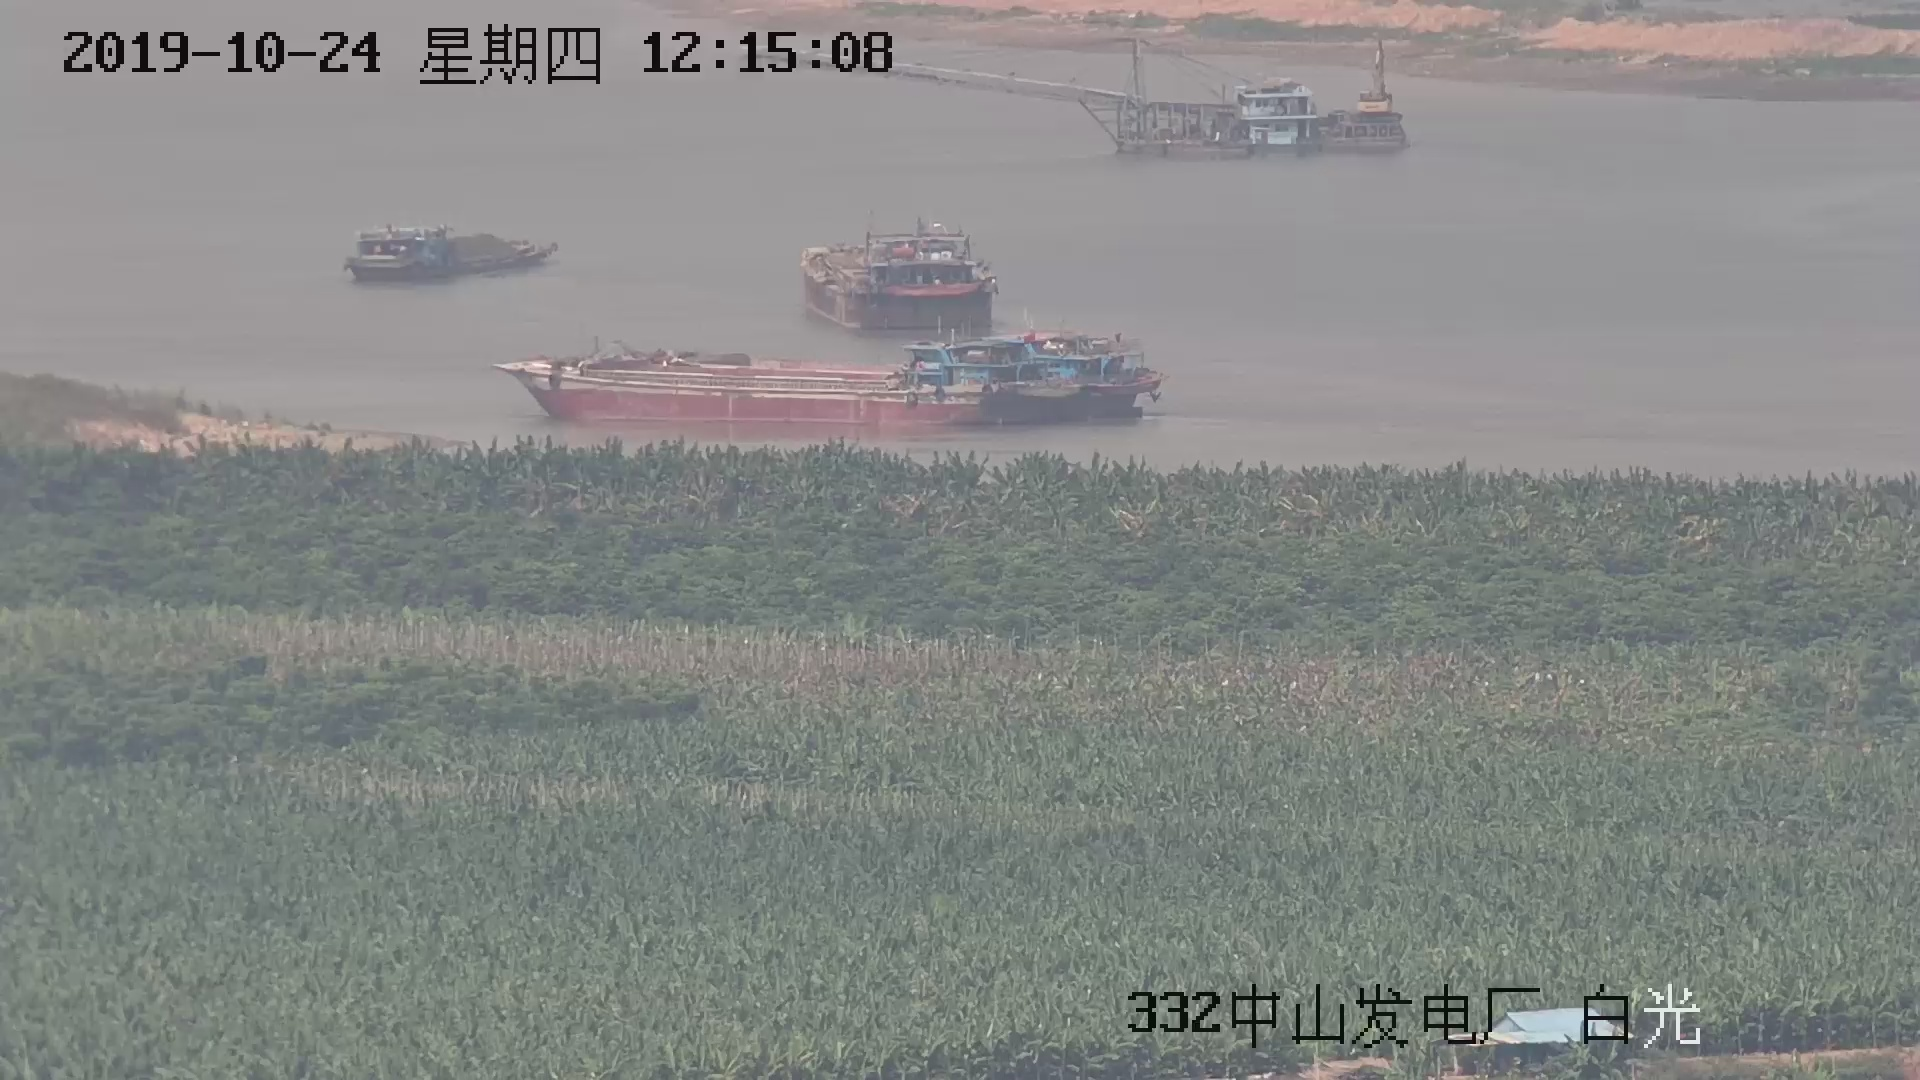ship: (496, 315, 1178, 438), (799, 220, 1000, 336), (344, 222, 560, 284)
